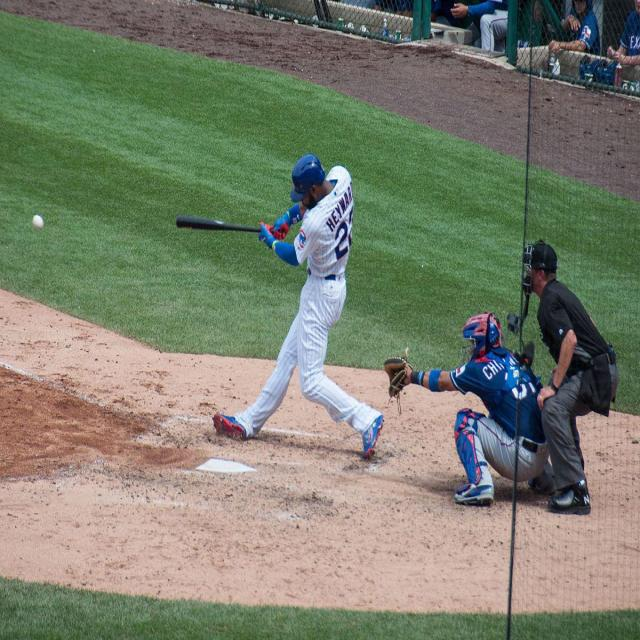baseball: (34, 211, 43, 229)
